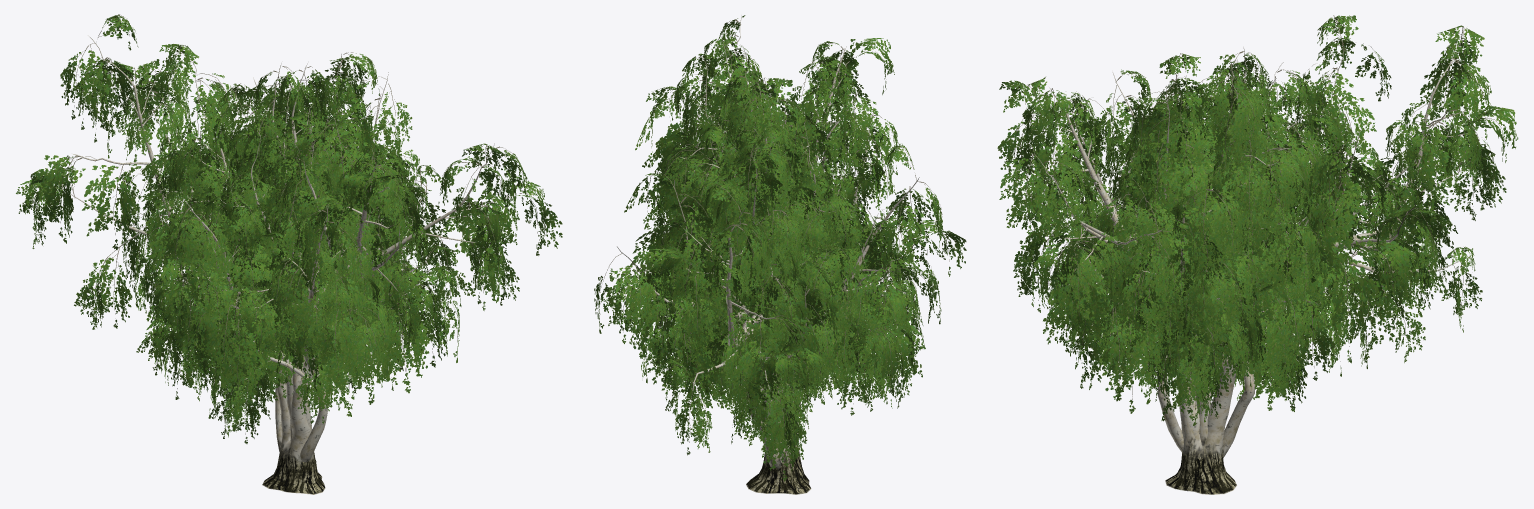
Rendered from birch.glb.
The picture shows the model from 3 angles, left to right: view 1: azimuth 30°, elevation 25°; view 2: azimuth 150°, elevation 25°; view 3: azimuth 270°, elevation 25°; orthographic projection. The views are drawn at different scales.
Visible parts, largest first — view 1: birch-5-foliage, birch-4-foliage, birch-3-foliage, birch-1-foliage, birch-2-foliage, birch-5-wood, birch-4-wood, birch-3-wood; view 2: birch-5-foliage, birch-4-foliage, birch-3-foliage, birch-1-foliage, birch-2-foliage, birch-5-wood, birch-3-wood; view 3: birch-5-foliage, birch-3-foliage, birch-1-foliage, birch-4-foliage, birch-2-foliage, birch-5-wood, birch-4-wood.
Boxes of the visible parts, left/top/right/bottom form: birch-5-foliage: left=16, top=14, right=562, bottom=494; birch-4-foliage: left=136, top=44, right=407, bottom=462; birch-3-foliage: left=147, top=52, right=420, bottom=431; birch-1-foliage: left=188, top=66, right=461, bottom=441; birch-2-foliage: left=212, top=66, right=430, bottom=373; birch-5-wood: left=57, top=35, right=517, bottom=441; birch-4-wood: left=166, top=60, right=336, bottom=445; birch-3-wood: left=184, top=54, right=384, bottom=425; birch-5-foliage: left=594, top=15, right=944, bottom=494; birch-4-foliage: left=656, top=85, right=966, bottom=471; birch-3-foliage: left=643, top=53, right=941, bottom=439; birch-1-foliage: left=652, top=75, right=878, bottom=481; birch-2-foliage: left=652, top=82, right=834, bottom=273; birch-5-wood: left=617, top=15, right=919, bottom=439; birch-3-wood: left=679, top=63, right=891, bottom=422; birch-5-foliage: left=997, top=25, right=1518, bottom=494; birch-3-foliage: left=1085, top=76, right=1373, bottom=445; birch-1-foliage: left=1049, top=60, right=1348, bottom=425; birch-4-foliage: left=1065, top=15, right=1419, bottom=457; birch-2-foliage: left=1083, top=51, right=1342, bottom=446; birch-5-wood: left=1031, top=27, right=1475, bottom=433; birch-4-wood: left=1100, top=47, right=1382, bottom=432.
Bounding box in the file's own units: 0.9177 × 1 × 1.08.
Materials: 2 (2 with a texture image).
